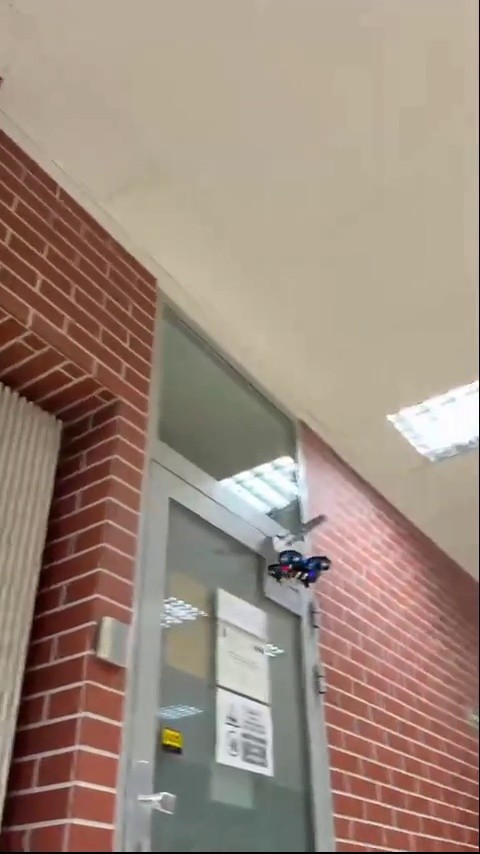drone: (270, 545, 330, 590)
